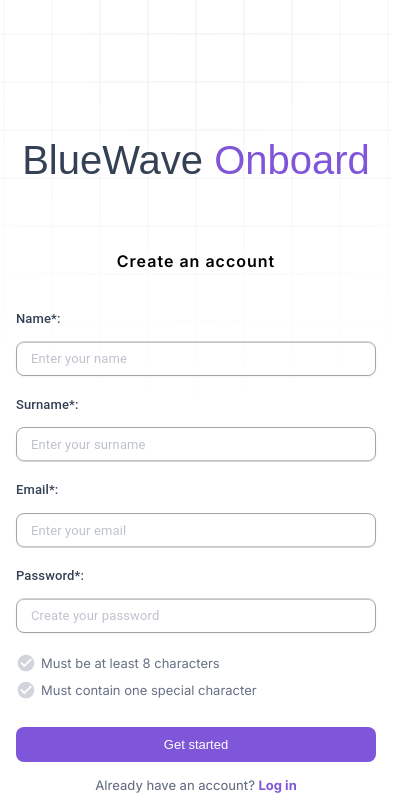
CreateAccountPage › handles sign up failure with email already exists error
Type "testname" into the field with placeholder "Enter your name". click: (196, 359)
box: [16,341,376,376]
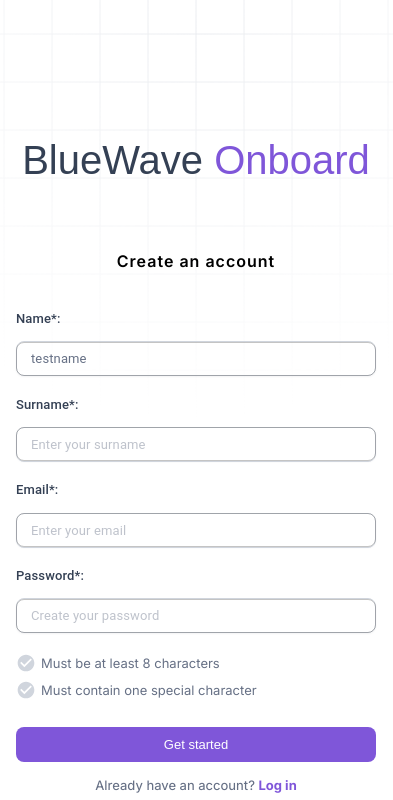
Type "testsurname" into the field with placeholder "Enter your surname". click: (196, 444)
box: [16,427,376,462]
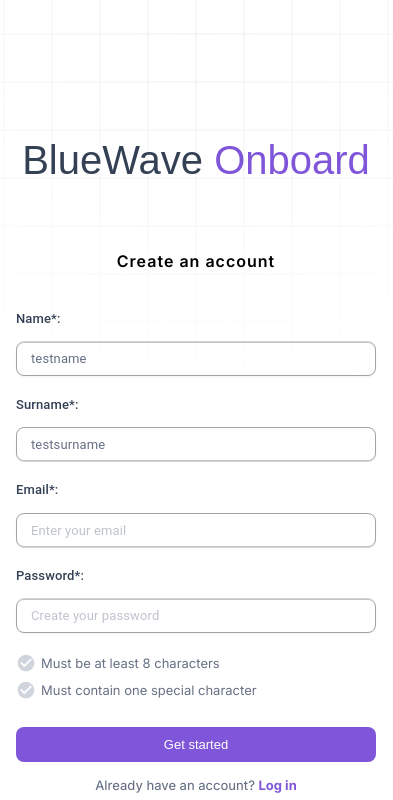
Type "test@example.com" into the field with placeholder "Enter your email". click: (196, 530)
box: [16,513,376,548]
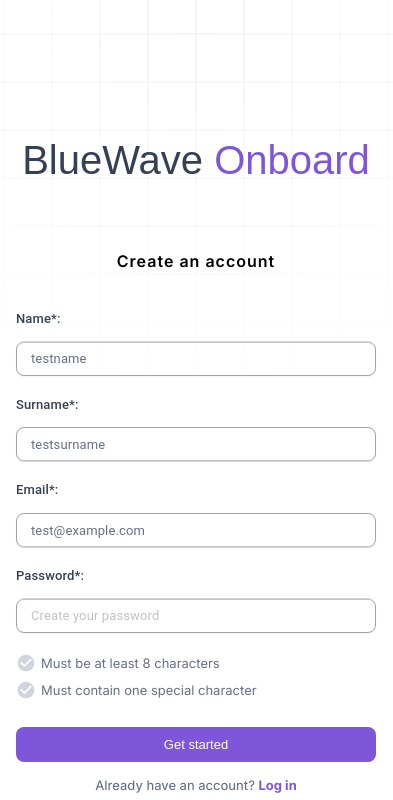
Type "Password1!" into the password field with placeholder "Create your password". click: (196, 616)
box: [16,598,376,633]
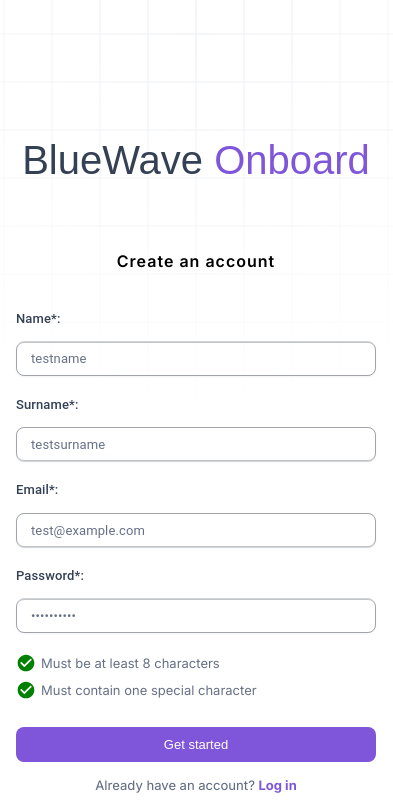
Click the button "Get started". click: (196, 744)
box: [16,727,376,762]
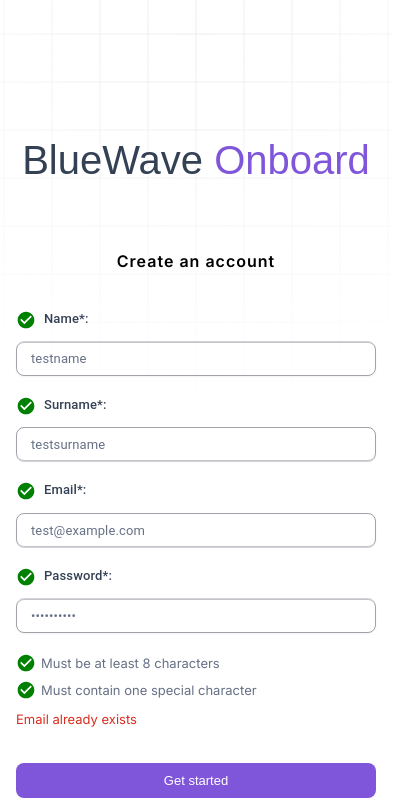
Expected: the text "Email already exists" is shown, [16,711,137,727]
